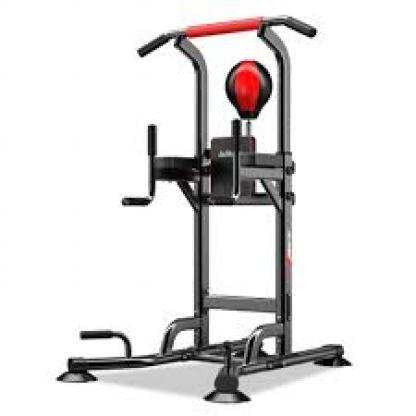chinning dipping: (61, 14, 350, 401)
